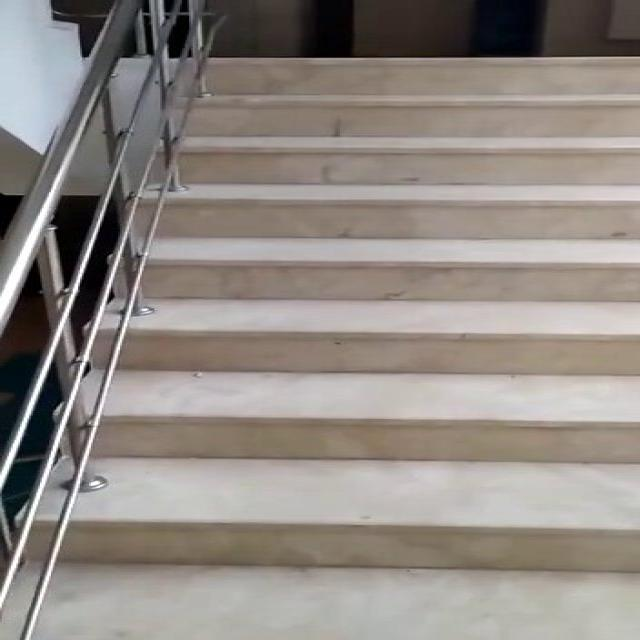stairs: (4, 54, 638, 573)
